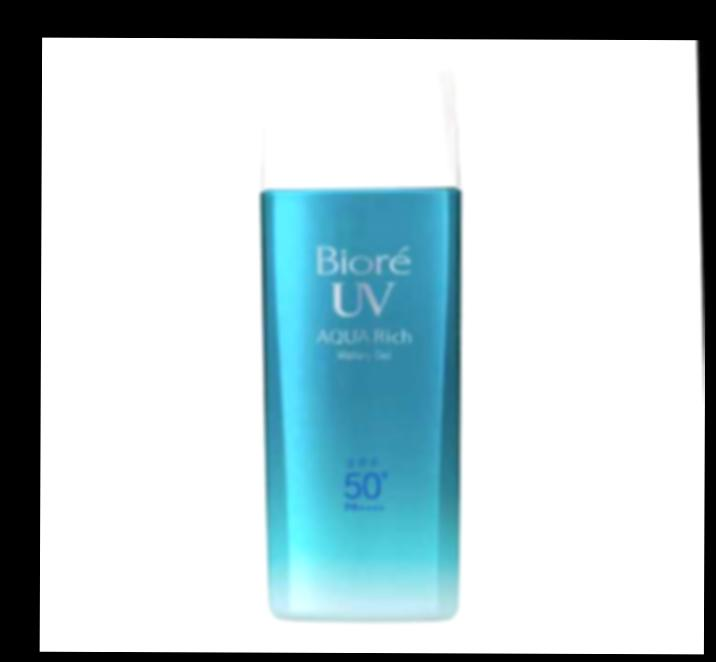cosmetic: (247, 57, 471, 623)
